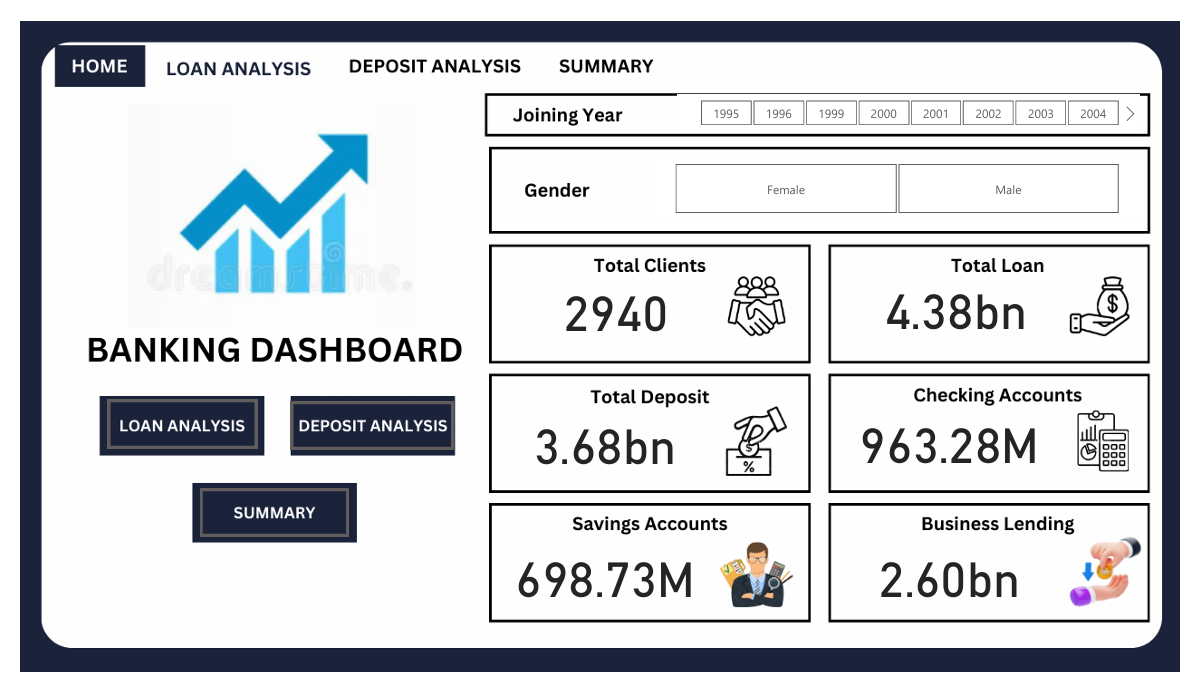

This screenshot's page, from the dashboard's own definition file:
{"tool":"powerbi","page":{"name":"Home","canvas":[1280,720],"ordinal":0},"visuals":[{"type":"card","fields":{"Values":["Banking_Clients.Total Clients"]},"box":[539.3,270.3,236,89.2],"z":0},{"type":"card","fields":{"Values":["Banking_Clients.Total Loan"]},"box":[918,267.6,229.2,89.2],"z":1000},{"type":"card","fields":{"Values":["Banking_Clients.Total Deposit"]},"box":[539.3,417.2,211.3,89.2],"z":2000},{"type":"card","fields":{"Values":["Banking_Clients.Checking Accounts"]},"box":[918,415.8,214.1,89.2],"z":3000},{"type":"card","fields":{"Values":["Banking_Clients.Business Lending"]},"box":[918,564,214.1,89.2],"z":4000},{"type":"card","fields":{"Values":["Banking_Clients.Saving Accounts"]},"box":[539.3,564,211.3,89.2],"z":5000},{"type":"slicer","fields":{"Values":["Gender.Gender"]},"box":[697.1,149.6,539.3,68.6],"z":6000},{"type":"slicer","fields":{"Values":["Banking_Clients.Year Of Join"]},"box":[724.5,79.6,511.8,39.8],"z":7000},{"type":"actionButton","box":[96.1,417.2,164.7,53.5],"z":7001},{"type":"actionButton","box":[297.8,418.5,179.8,53.5],"z":7002},{"type":"actionButton","box":[197.6,514.6,164.7,53.5],"z":7003}]}

Visuals, with their boxes in screenshot pixels (x1, y1, x2, y2), scaled from the page's 1280x720 canvas onto the 1201x692 screenshot:
card - Banking_Clients.Total Clients: bbox=(506, 260, 727, 346)
card - Banking_Clients.Total Loan: bbox=(861, 257, 1076, 343)
card - Banking_Clients.Total Deposit: bbox=(506, 401, 704, 487)
card - Banking_Clients.Checking Accounts: bbox=(861, 400, 1062, 485)
card - Banking_Clients.Business Lending: bbox=(861, 542, 1062, 628)
card - Banking_Clients.Saving Accounts: bbox=(506, 542, 704, 628)
slicer - Gender.Gender: bbox=(654, 144, 1160, 210)
slicer - Banking_Clients.Year Of Join: bbox=(680, 77, 1160, 115)
actionButton: bbox=(90, 401, 245, 452)
actionButton: bbox=(279, 402, 448, 454)
actionButton: bbox=(185, 495, 340, 546)
